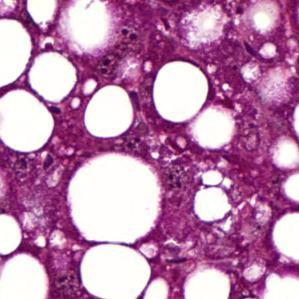steatosis: (155, 55, 211, 122), (84, 84, 136, 136), (189, 171, 237, 224), (28, 53, 83, 99)
